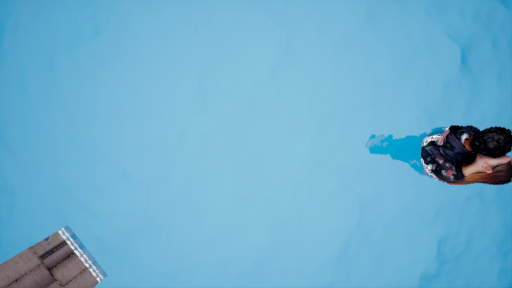person: (355, 121, 512, 190)
